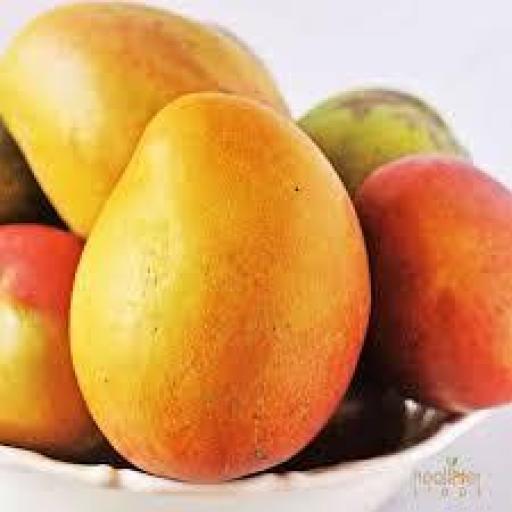mango: (71, 94, 368, 482)
